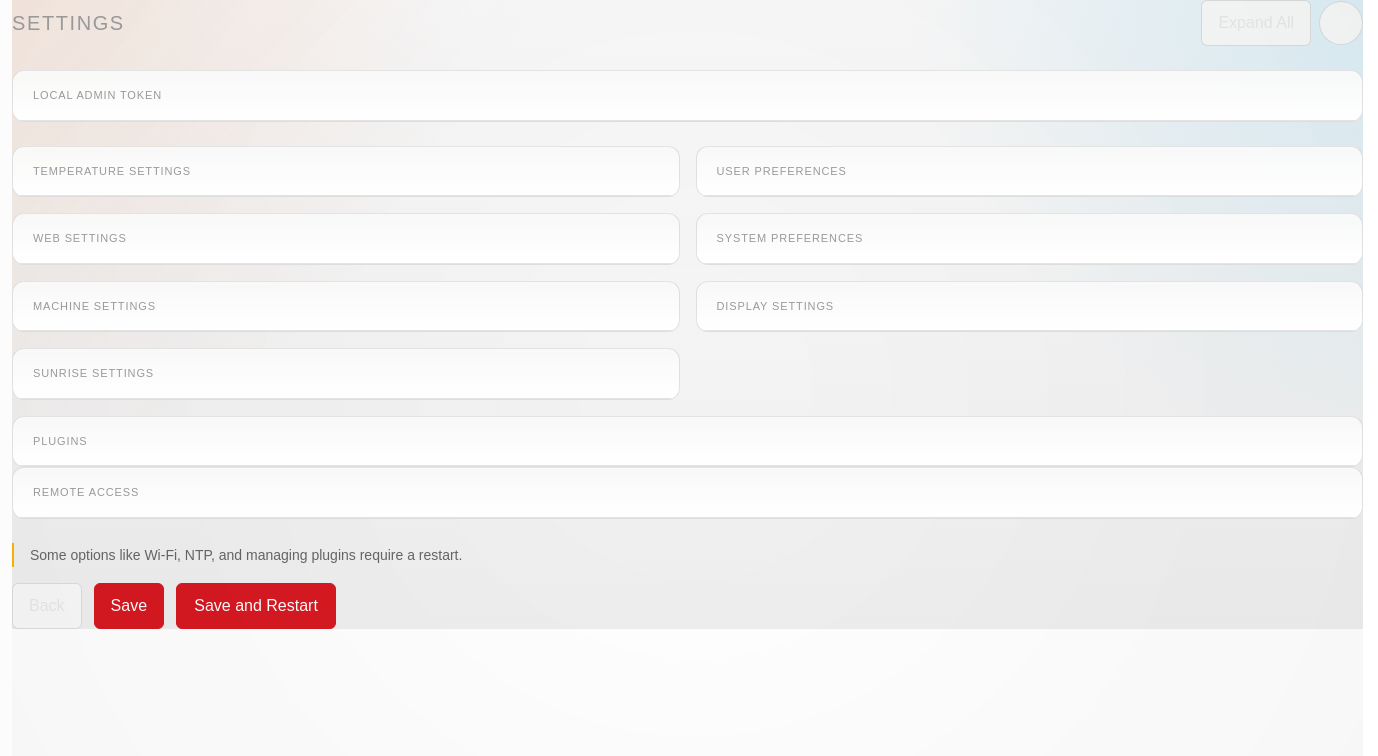
Scenario: Settings custom accents (PRO-643) › seeds a newly enabled dashboard override from the effective app accent
Click the button "Web Settings": x=80, y=238 [33,230,658,246]
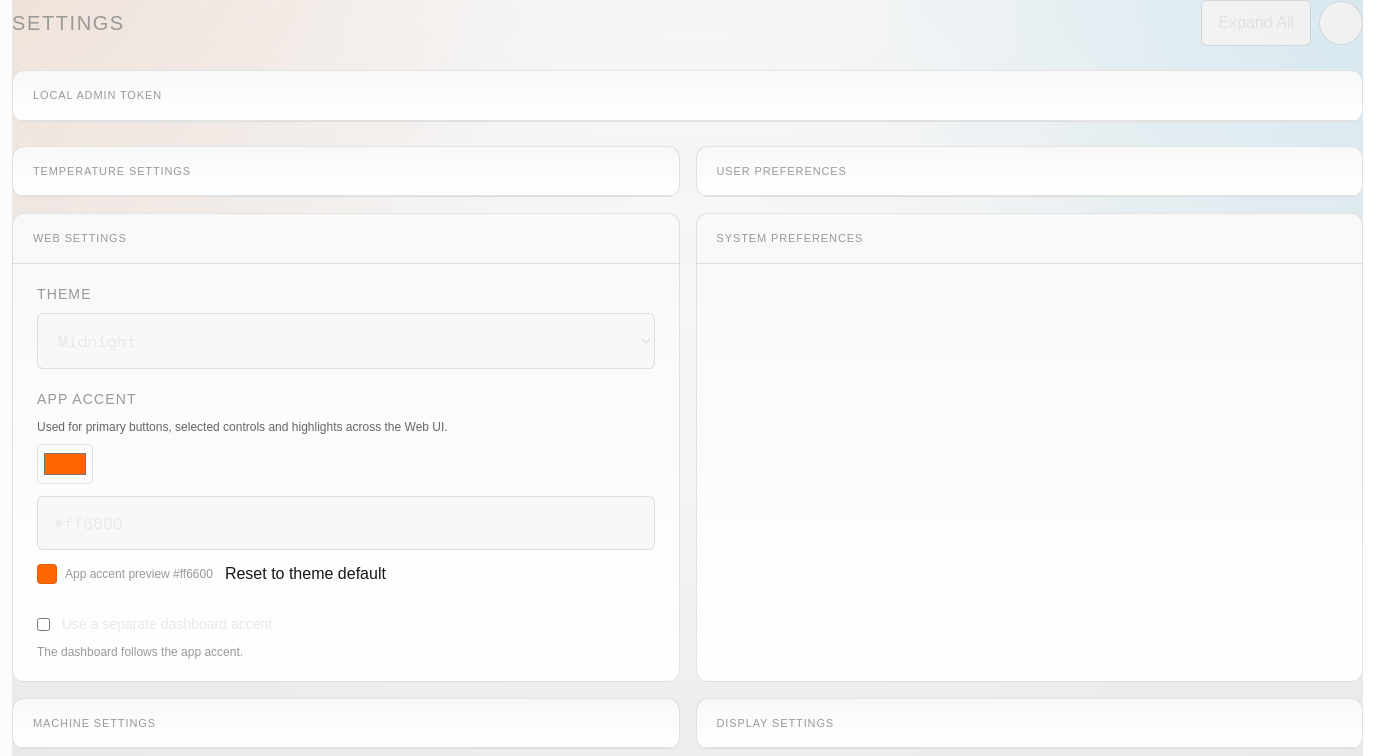
Click the checkbox labelled "Use a separate dashboard accent": x=44, y=624 [37,618,50,630]
(page scrolled)
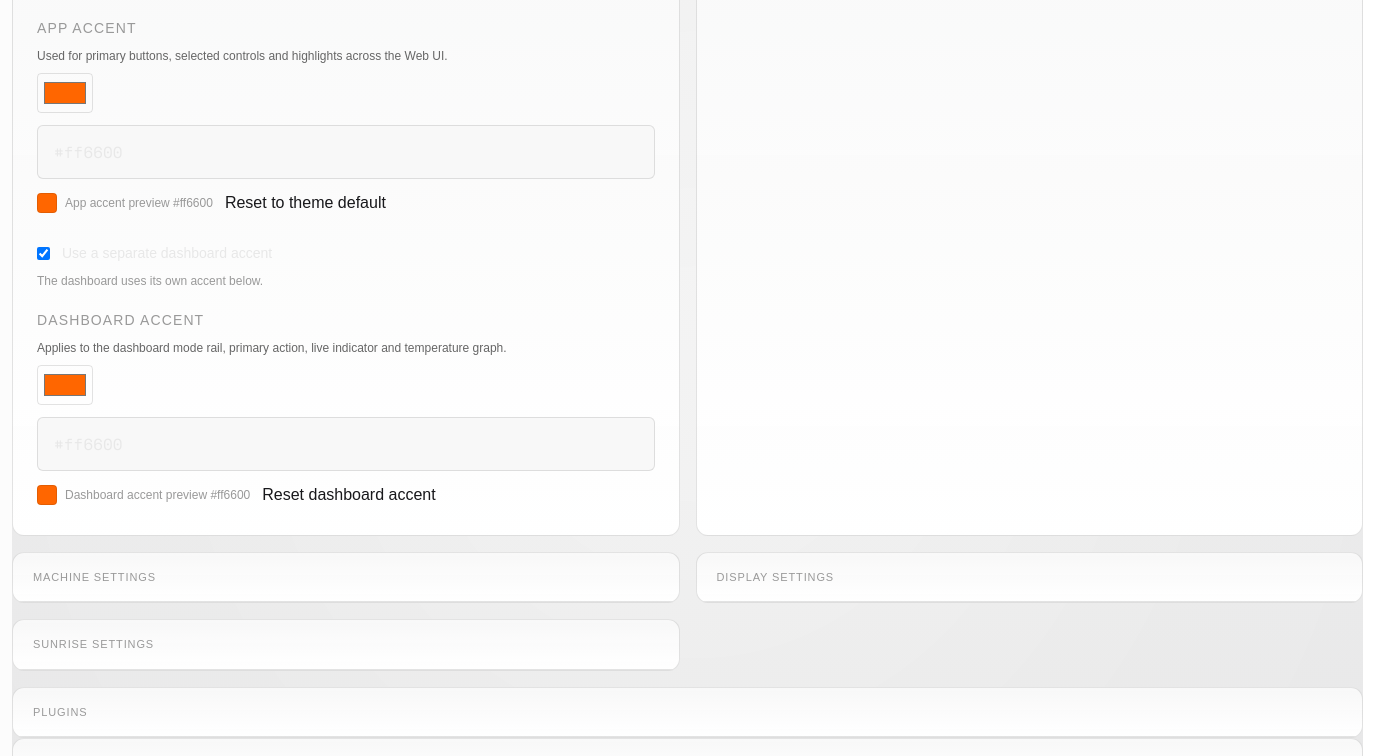
Now the 2nd colour field named "Dashboard accent color" holds "#ff6600", box [37,364,93,404]
